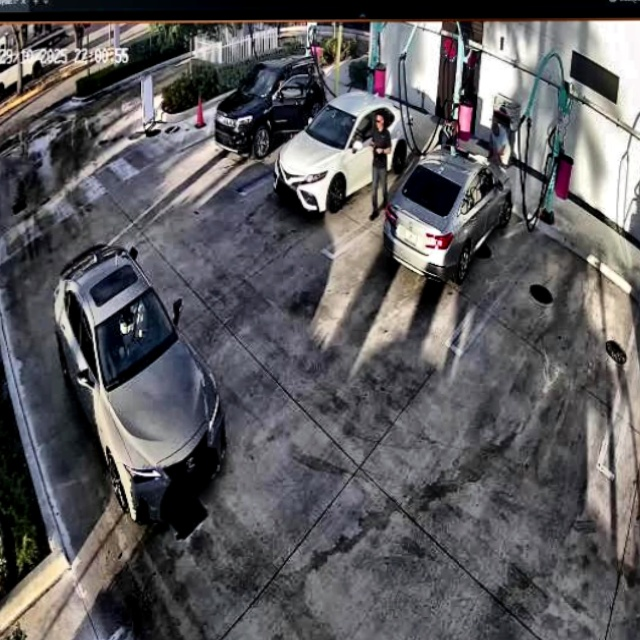Car: (54, 241, 227, 525), (386, 141, 510, 286), (275, 91, 414, 210), (218, 51, 325, 163)
